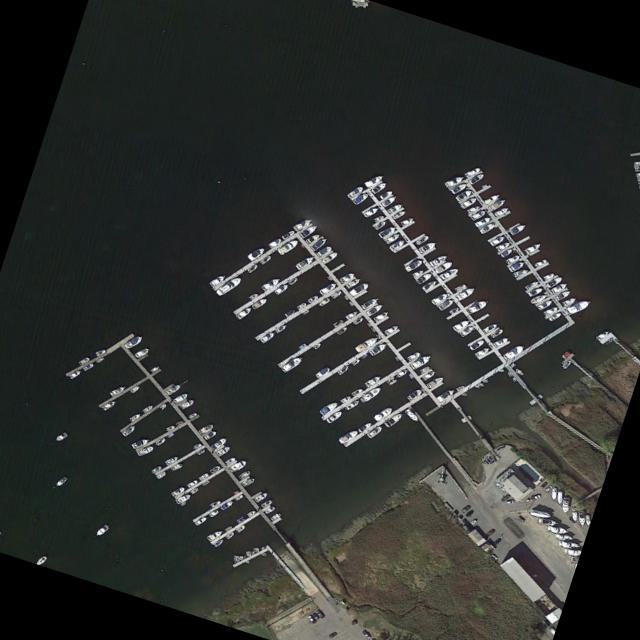ship: (214, 275, 244, 296), (353, 335, 378, 353), (565, 297, 591, 314), (358, 385, 382, 403), (276, 237, 300, 255), (465, 297, 490, 314), (501, 343, 524, 361), (280, 354, 303, 372), (409, 352, 433, 369), (336, 428, 359, 444), (382, 411, 404, 427), (318, 399, 340, 415), (372, 405, 393, 421), (363, 172, 384, 188), (123, 333, 144, 349), (294, 254, 315, 270), (260, 275, 281, 291), (348, 281, 370, 296), (246, 244, 265, 261), (455, 285, 476, 300), (367, 341, 388, 356), (291, 216, 312, 231), (298, 222, 317, 238), (451, 316, 471, 331), (433, 259, 453, 274), (438, 265, 459, 279), (443, 173, 464, 187), (359, 295, 380, 309), (436, 387, 455, 402), (318, 280, 337, 295), (309, 236, 328, 251), (345, 184, 364, 199), (209, 435, 228, 450), (376, 224, 396, 238), (228, 458, 248, 472), (522, 240, 541, 254), (417, 239, 436, 253), (365, 424, 384, 438), (487, 197, 506, 211), (364, 302, 383, 316), (363, 373, 382, 387), (234, 305, 253, 319), (506, 259, 526, 272), (428, 253, 448, 266), (420, 277, 438, 291), (388, 237, 406, 251), (320, 250, 338, 264), (545, 274, 563, 288), (313, 365, 331, 379), (208, 273, 226, 287), (250, 296, 268, 310), (425, 375, 444, 388), (403, 258, 422, 271), (453, 188, 472, 201), (136, 443, 155, 456), (352, 191, 369, 205), (325, 408, 342, 422), (414, 271, 432, 284), (473, 214, 491, 227), (549, 281, 567, 294), (459, 195, 477, 208), (108, 383, 126, 396), (205, 528, 223, 541), (258, 330, 276, 343), (130, 436, 149, 448), (404, 407, 419, 422), (406, 387, 422, 401), (437, 297, 454, 310), (468, 337, 485, 350), (492, 334, 509, 347), (473, 344, 490, 357), (383, 231, 400, 244), (174, 491, 191, 504), (252, 489, 269, 502), (372, 309, 389, 322), (164, 382, 181, 395), (304, 231, 321, 244), (529, 508, 551, 518), (481, 321, 499, 333), (430, 292, 448, 304), (508, 223, 526, 235), (314, 245, 332, 257), (369, 181, 387, 193), (535, 298, 553, 310), (546, 524, 567, 534), (94, 523, 110, 536), (215, 443, 231, 456), (273, 282, 289, 295), (478, 222, 495, 234), (488, 234, 505, 246), (362, 205, 379, 217), (469, 208, 486, 220), (482, 192, 499, 204), (554, 288, 571, 300), (467, 172, 484, 184), (197, 422, 214, 434), (178, 397, 195, 409), (537, 516, 557, 526), (529, 292, 547, 303), (458, 324, 474, 336), (420, 368, 436, 380), (494, 239, 510, 251), (338, 271, 354, 283), (344, 276, 360, 288), (450, 181, 466, 193), (133, 346, 149, 358), (172, 391, 188, 403), (267, 236, 283, 248), (492, 205, 509, 216), (386, 202, 403, 213), (463, 166, 480, 177), (541, 304, 558, 315), (100, 399, 117, 410), (121, 423, 135, 436), (553, 532, 573, 541), (344, 398, 359, 410), (357, 420, 372, 432), (405, 350, 421, 361), (504, 253, 520, 264), (523, 279, 539, 290), (383, 323, 399, 334), (526, 286, 543, 296), (414, 233, 428, 245), (558, 540, 579, 548), (489, 327, 504, 338), (391, 208, 406, 219), (378, 188, 393, 199), (547, 310, 562, 321), (170, 485, 185, 496), (219, 499, 234, 510), (164, 454, 179, 465), (343, 308, 358, 319), (280, 228, 295, 239), (560, 495, 569, 513), (595, 329, 609, 340), (512, 268, 528, 277), (329, 288, 342, 299), (54, 475, 67, 486), (34, 554, 47, 565), (245, 262, 258, 273), (373, 219, 387, 229), (399, 215, 413, 225), (561, 296, 575, 306), (533, 257, 547, 267), (54, 431, 68, 441), (193, 515, 207, 525), (336, 364, 350, 374), (240, 476, 254, 486), (273, 323, 287, 333), (203, 429, 217, 439), (258, 254, 272, 264), (577, 510, 585, 527), (351, 0, 368, 8), (465, 204, 480, 213), (499, 247, 512, 257), (68, 368, 81, 378), (77, 355, 90, 365), (169, 461, 182, 471), (237, 469, 250, 479), (350, 386, 363, 396), (317, 296, 330, 306), (208, 463, 221, 473), (448, 304, 460, 314), (411, 267, 423, 277), (396, 367, 408, 377), (385, 375, 397, 385), (128, 411, 140, 421), (339, 393, 351, 403), (263, 504, 275, 514), (306, 293, 318, 303), (141, 403, 153, 413), (453, 282, 466, 291), (208, 498, 221, 507), (81, 362, 94, 371), (185, 478, 198, 487), (260, 498, 273, 507), (268, 511, 281, 520), (331, 318, 344, 327), (212, 537, 223, 547), (418, 364, 430, 373), (542, 271, 554, 280), (207, 508, 219, 517), (154, 436, 166, 445), (197, 471, 209, 480), (150, 464, 162, 473), (154, 470, 166, 479), (351, 316, 363, 325), (283, 308, 295, 317), (561, 358, 571, 368), (234, 515, 245, 524), (94, 347, 105, 356), (234, 523, 245, 532), (247, 291, 258, 300), (224, 455, 235, 464), (296, 301, 307, 310), (287, 275, 298, 284), (550, 486, 557, 500), (570, 507, 577, 521), (372, 214, 384, 222), (556, 488, 562, 504), (128, 384, 140, 392), (335, 326, 347, 334), (561, 350, 571, 359), (224, 530, 234, 539), (189, 486, 199, 494), (149, 364, 159, 372), (245, 509, 255, 517), (350, 357, 360, 365), (196, 447, 205, 455), (312, 341, 321, 349), (454, 384, 464, 391), (200, 479, 210, 486), (233, 493, 243, 500), (187, 411, 197, 418), (605, 336, 613, 344), (359, 352, 368, 359), (192, 442, 201, 449), (165, 424, 174, 431), (297, 342, 306, 349), (223, 524, 232, 531), (158, 402, 167, 409), (585, 514, 590, 525), (95, 356, 104, 362), (174, 419, 183, 425), (348, 300, 355, 307), (231, 489, 239, 495), (166, 431, 174, 437), (300, 309, 309, 314), (633, 165, 640, 171), (469, 518, 476, 524), (179, 500, 186, 506), (343, 294, 349, 301), (369, 326, 376, 332), (366, 321, 372, 327), (299, 242, 305, 248), (394, 355, 400, 361), (509, 361, 515, 367), (408, 372, 414, 378), (325, 275, 332, 280), (374, 333, 381, 338), (480, 183, 487, 188), (506, 371, 513, 376), (232, 555, 237, 561), (516, 369, 522, 374), (633, 160, 640, 164), (260, 545, 265, 550), (518, 371, 523, 376), (636, 178, 640, 184), (247, 550, 251, 556), (238, 554, 242, 560), (513, 368, 519, 372), (512, 376, 516, 382), (482, 378, 488, 382), (473, 384, 479, 388), (635, 172, 640, 176), (244, 550, 248, 555), (498, 368, 503, 372), (260, 552, 266, 555), (255, 546, 258, 552), (253, 546, 256, 552), (461, 392, 466, 395), (477, 383, 484, 385), (251, 550, 254, 554), (245, 560, 249, 563)
small-vehicle: (360, 629, 370, 639), (315, 608, 324, 618), (460, 504, 470, 513), (306, 614, 315, 623), (500, 493, 509, 502), (464, 508, 473, 517), (327, 630, 337, 638), (485, 527, 495, 535), (311, 611, 319, 620), (530, 493, 540, 500), (544, 484, 552, 492), (539, 480, 547, 488), (493, 537, 501, 544), (505, 499, 514, 503), (370, 637, 376, 640)
